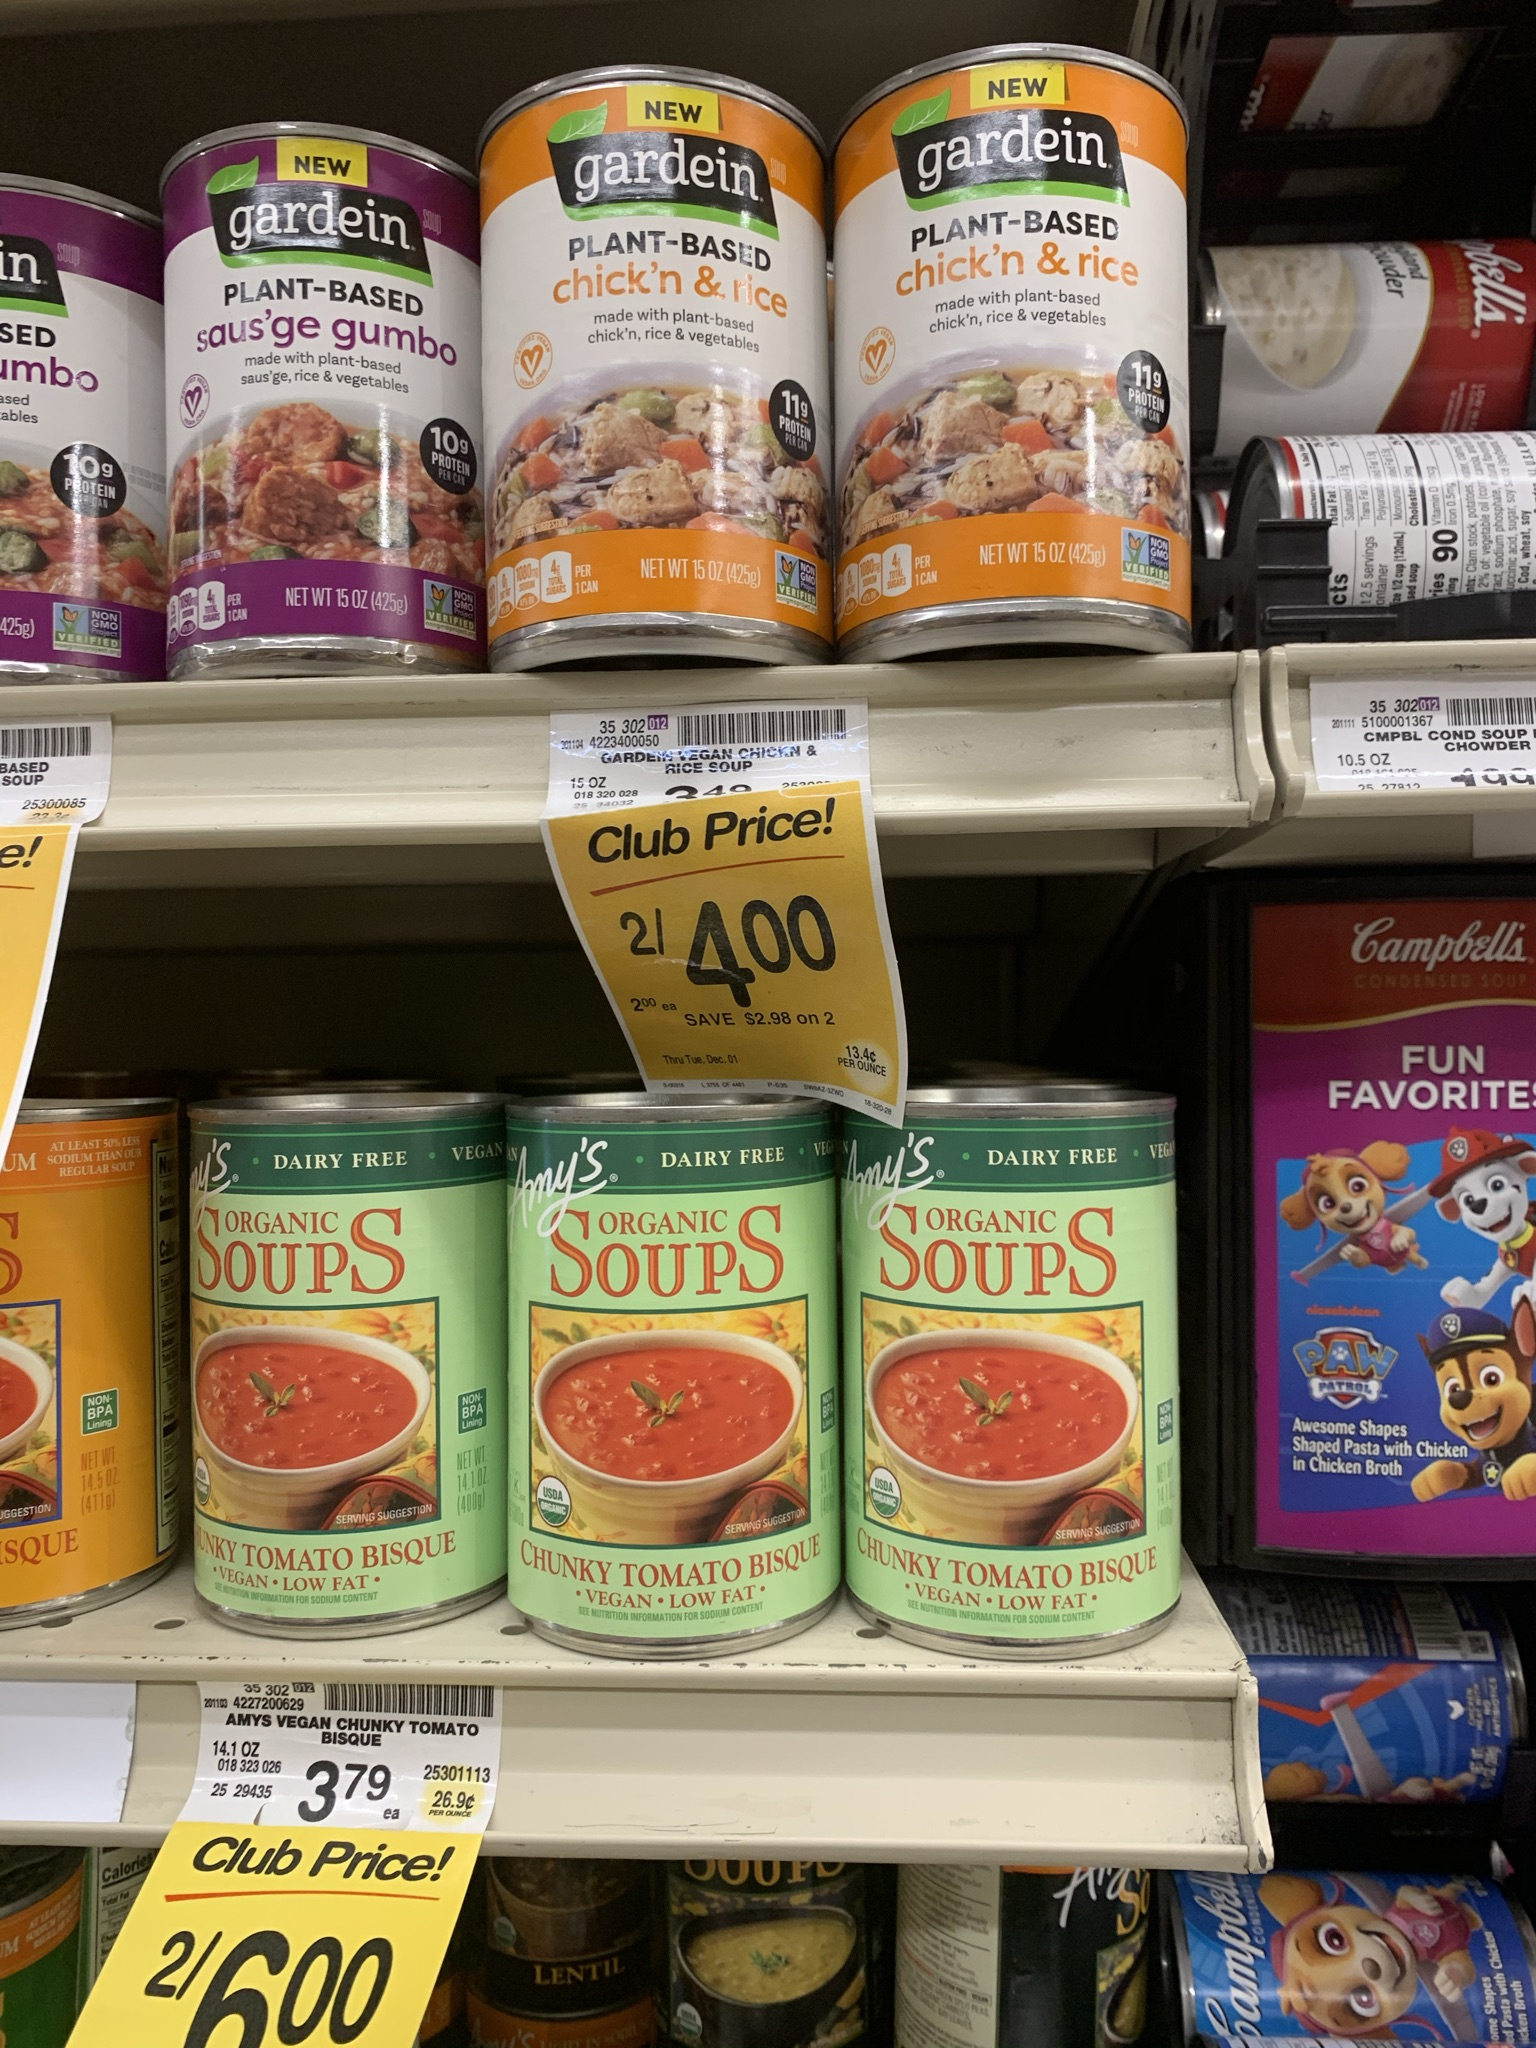can: (828, 39, 1187, 648), (481, 61, 824, 658), (165, 116, 474, 679), (865, 1106, 1183, 1634), (182, 1114, 492, 1598), (550, 1135, 812, 1614), (2, 219, 144, 643), (1226, 256, 1536, 413), (1260, 435, 1536, 519)
